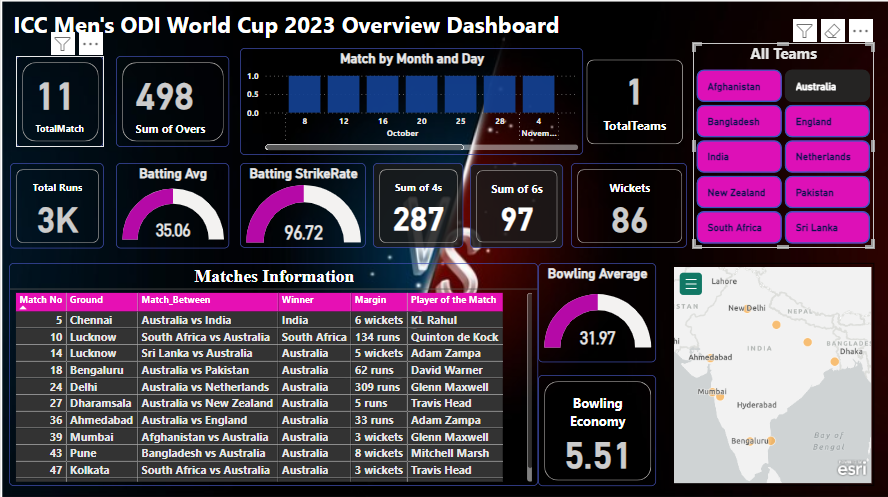

Layout of this report page (visuals, bound fields, positions):
{"tool":"powerbi","page":{"name":"ICC World Cup 2023 Overall Tournament Overview","canvas":[1280,720],"ordinal":0},"visuals":[{"type":"cardVisual","fields":{"Data":["Sum(bowling_summary.Overs)"]},"box":[165.9,84.1,162.5,130.7],"z":0},{"type":"cardVisual","fields":{"Data":["Key_Measures.wickets"]},"box":[820.8,237.6,167,122.4],"z":1000},{"type":"cardVisual","fields":{"Data":["Key_Measures.Total Runs"]},"box":[12.5,237.5,135.2,122.7],"z":2000},{"type":"lineClusteredColumnComboChart","title":"Match by Month and Day","fields":{"Category":["matches_schedule_results.Date.Variation.Date Hierarchy.Month","matches_schedule_results.Date.Variation.Date Hierarchy.Day"],"Y":["CountNonNull(matches_schedule_results.Match No)"]},"box":[344.2,72,493.9,154.1],"z":3000},{"type":"tableEx","title":"     Matches Information","fields":{"Values":["matches_schedule_results.Match No","matches_schedule_results.Ground","batting_summary_out.Match_Between","matches_schedule_results.Winner","matches_schedule_results.Margin","matches_schedule_results.Player of the Match"]},"box":[11.5,381.6,761.8,321.1],"z":4000},{"type":"advancedSlicerVisual","title":"All Teams","fields":{"Values":["world_cup_players_info.team_name"]},"box":[996.5,64.8,260.6,295.2],"z":5000},{"type":"cardVisual","title":"4s","fields":{"Data":["Sum(batting_summary_out.4s)"]},"box":[535.7,237.6,129.6,122.4],"z":6000},{"type":"cardVisual","fields":{"Data":["Sum(batting_summary_out.6s)"]},"box":[675.4,239,133.9,121],"z":7000},{"type":"cardVisual","fields":{"Data":["Key_Measures.TotalTeams"]},"box":[838.1,83.5,149.8,132.5],"z":8000},{"type":"cardVisual","fields":{"Data":["Key_Measures.TotalMatchesCount"]},"box":[21.6,84.1,126.1,130.7],"z":9000},{"type":"cardVisual","fields":{"Data":["Key_Measures.Economy"]},"box":[773.1,543.3,170.1,159.7],"z":10000},{"type":"gauge","fields":{"Y":["Key_Measures.Bowling Average"]},"box":[773.3,381.6,169.9,142.6],"z":11000},{"type":"gauge","fields":{"Y":["Key_Measures.Batting Avg"]},"box":[165.9,237.5,162.5,122.7],"z":12000},{"type":"gauge","fields":{"Y":["Key_Measures.Strike rate"]},"box":[344.2,237.6,181.4,122.4],"z":13000},{"type":"textbox","box":[12.5,10.2,808,54.5],"z":14000},{"type":"esriVisual","fields":{"Location":["matches_schedule_results.Ground"]},"box":[963.4,381.6,293.8,321.1],"z":15000}]}

Visuals, with their boxes in screenshot pixels (x1, y1, x2, y2), scaled from the page's 1280x720 canvas onto the 888x497 screenshot:
cardVisual - Sum(bowling_summary.Overs): <region>115, 58, 228, 148</region>
cardVisual - Key_Measures.wickets: <region>569, 164, 685, 248</region>
cardVisual - Key_Measures.Total Runs: <region>9, 164, 102, 249</region>
"Match by Month and Day" lineClusteredColumnComboChart: <region>239, 50, 581, 156</region>
"     Matches Information" tableEx: <region>8, 263, 536, 485</region>
"All Teams" advancedSlicerVisual: <region>691, 45, 872, 248</region>
"4s" cardVisual: <region>372, 164, 462, 248</region>
cardVisual - Sum(batting_summary_out.6s): <region>469, 165, 561, 248</region>
cardVisual - Key_Measures.TotalTeams: <region>581, 58, 685, 149</region>
cardVisual - Key_Measures.TotalMatchesCount: <region>15, 58, 102, 148</region>
cardVisual - Key_Measures.Economy: <region>536, 375, 654, 485</region>
gauge - Key_Measures.Bowling Average: <region>536, 263, 654, 362</region>
gauge - Key_Measures.Batting Avg: <region>115, 164, 228, 249</region>
gauge - Key_Measures.Strike rate: <region>239, 164, 365, 248</region>
textbox: <region>9, 7, 569, 45</region>
esriVisual - matches_schedule_results.Ground: <region>668, 263, 872, 485</region>
